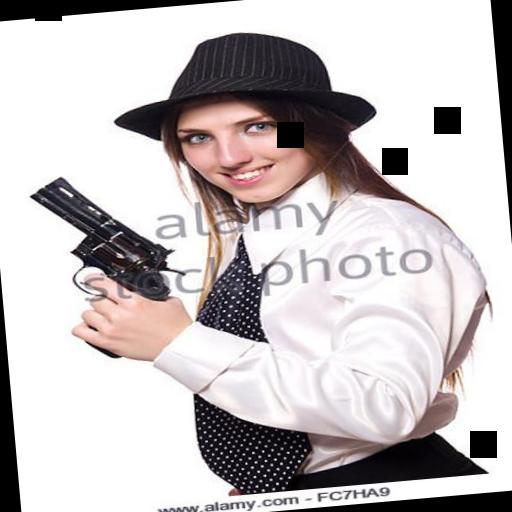Handgun: (20, 166, 196, 366)
